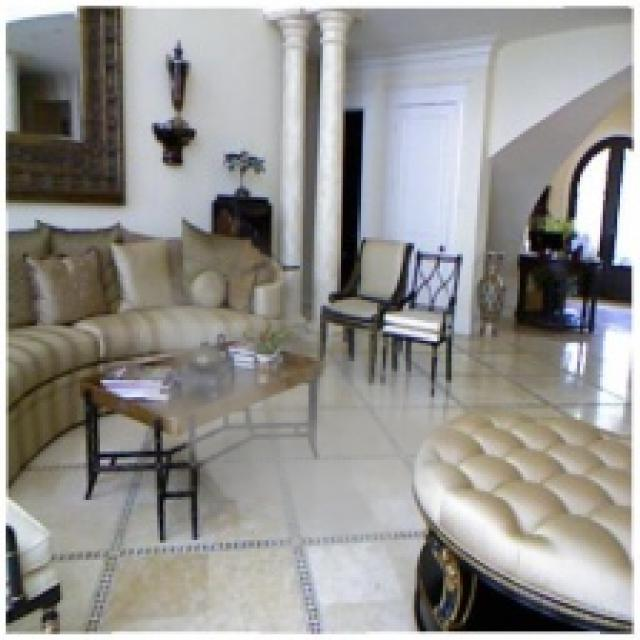smoke: (100, 194, 480, 589)
